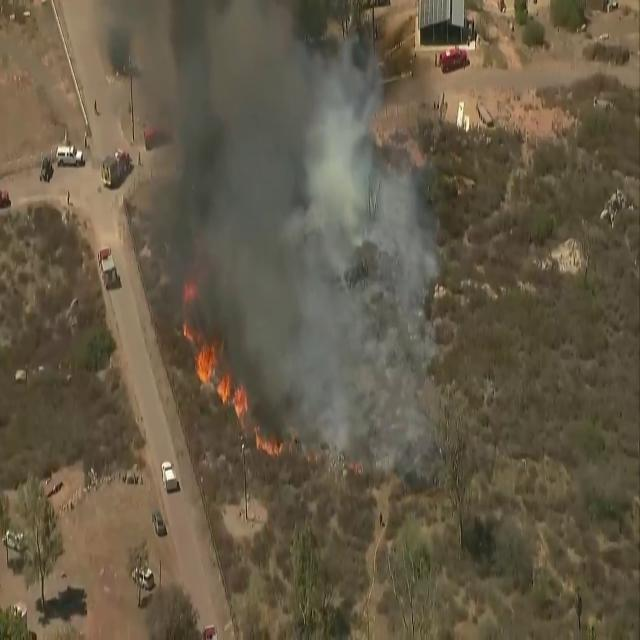Fire: (190, 328, 250, 421), (255, 422, 288, 460)
Smoke: (144, 0, 444, 447)
